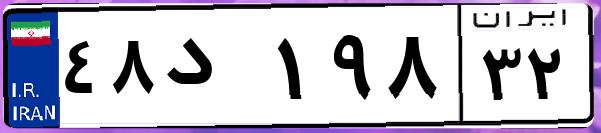1: (270, 28, 330, 110)
2: (525, 38, 570, 115)
3: (475, 38, 525, 113)
4: (57, 26, 110, 100)
8: (385, 28, 445, 110), (110, 28, 158, 98)
9: (330, 28, 385, 110)
د: (158, 20, 270, 120)
